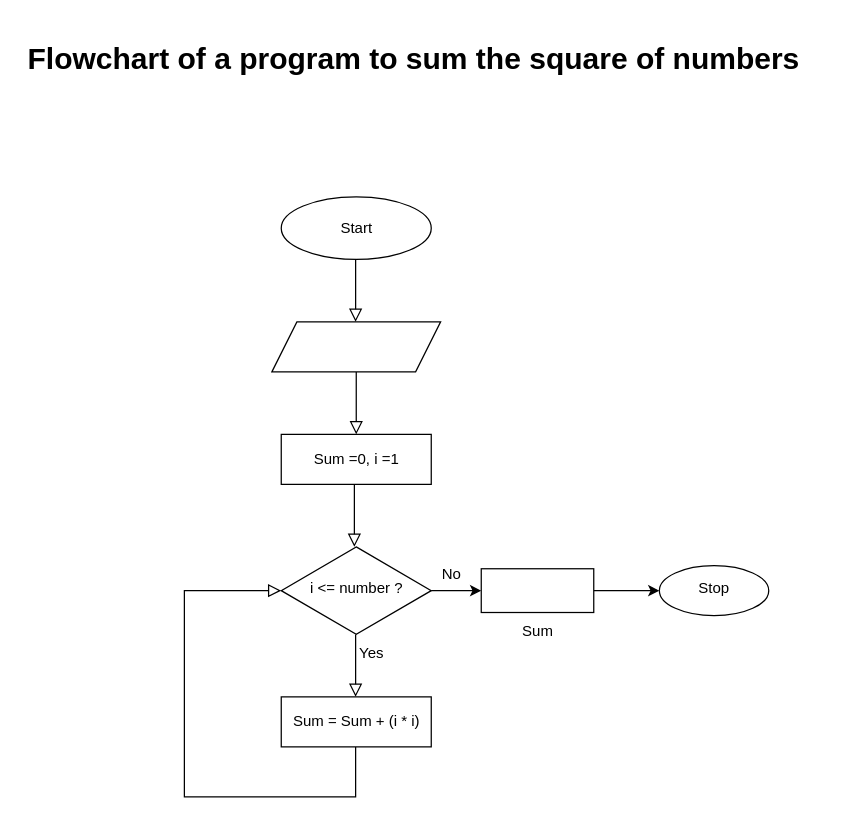
Image size: 843x831. Some labels were removed from this diagram. The box of each missing label's shape, as (x1, y1, x2, y2) in pixels:
Print: (480, 568, 594, 612)
Read Number: (271, 321, 441, 372)
